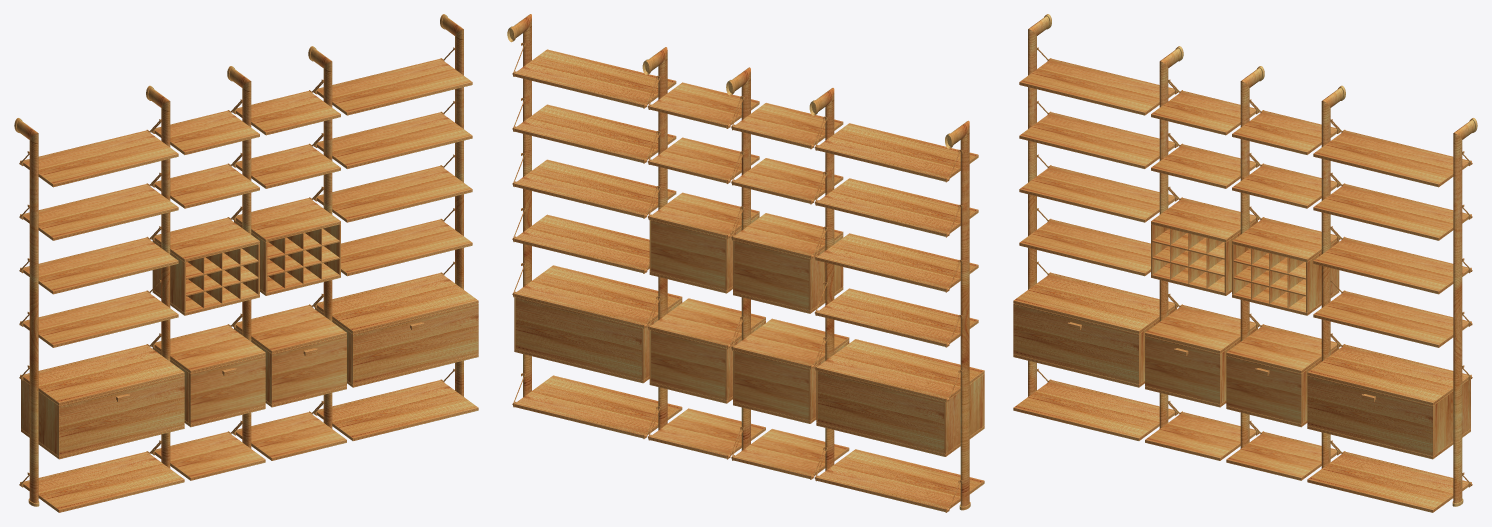
File: shelf.obj
The picture shows the model from 3 angles, left to right: view 1: azimuth 30°, elevation 25°; view 2: azimuth 150°, elevation 25°; view 3: azimuth 330°, elevation 25°; orthographic projection. The views are drawn at different scales.
Parts seen in each view (by area): view 1: obj_02, obj_06, obj_01, obj_05, obj_04, obj_03, obj_08; view 2: obj_02, obj_11, obj_01, obj_05, obj_08, obj_07; view 3: obj_02, obj_06, obj_01, obj_05, obj_04, obj_03, obj_08.
Part boxes in pixels (x1=…): obj_02: x1=21, y1=58, x2=478, y2=512; obj_06: x1=57, y1=303, x2=478, y2=456; obj_01: x1=14, y1=14, x2=463, y2=506; obj_05: x1=21, y1=221, x2=351, y2=454; obj_04: x1=186, y1=228, x2=339, y2=296; obj_03: x1=187, y1=229, x2=321, y2=307; obj_08: x1=20, y1=49, x2=453, y2=484; obj_02: x1=514, y1=49, x2=984, y2=511; obj_11: x1=515, y1=220, x2=944, y2=453; obj_01: x1=507, y1=14, x2=970, y2=510; obj_05: x1=514, y1=215, x2=982, y2=453; obj_08: x1=513, y1=45, x2=960, y2=509; obj_07: x1=512, y1=71, x2=949, y2=512; obj_02: x1=1013, y1=58, x2=1470, y2=512; obj_06: x1=1013, y1=303, x2=1434, y2=456; obj_01: x1=1028, y1=14, x2=1477, y2=506; obj_05: x1=1140, y1=221, x2=1470, y2=454; obj_04: x1=1152, y1=228, x2=1305, y2=296; obj_03: x1=1170, y1=229, x2=1304, y2=307; obj_08: x1=1038, y1=49, x2=1471, y2=484.
Bounding box in the file's own units: 10.93 × 9.03 × 1.77.
Materials: 1 (1 with a texture image).
